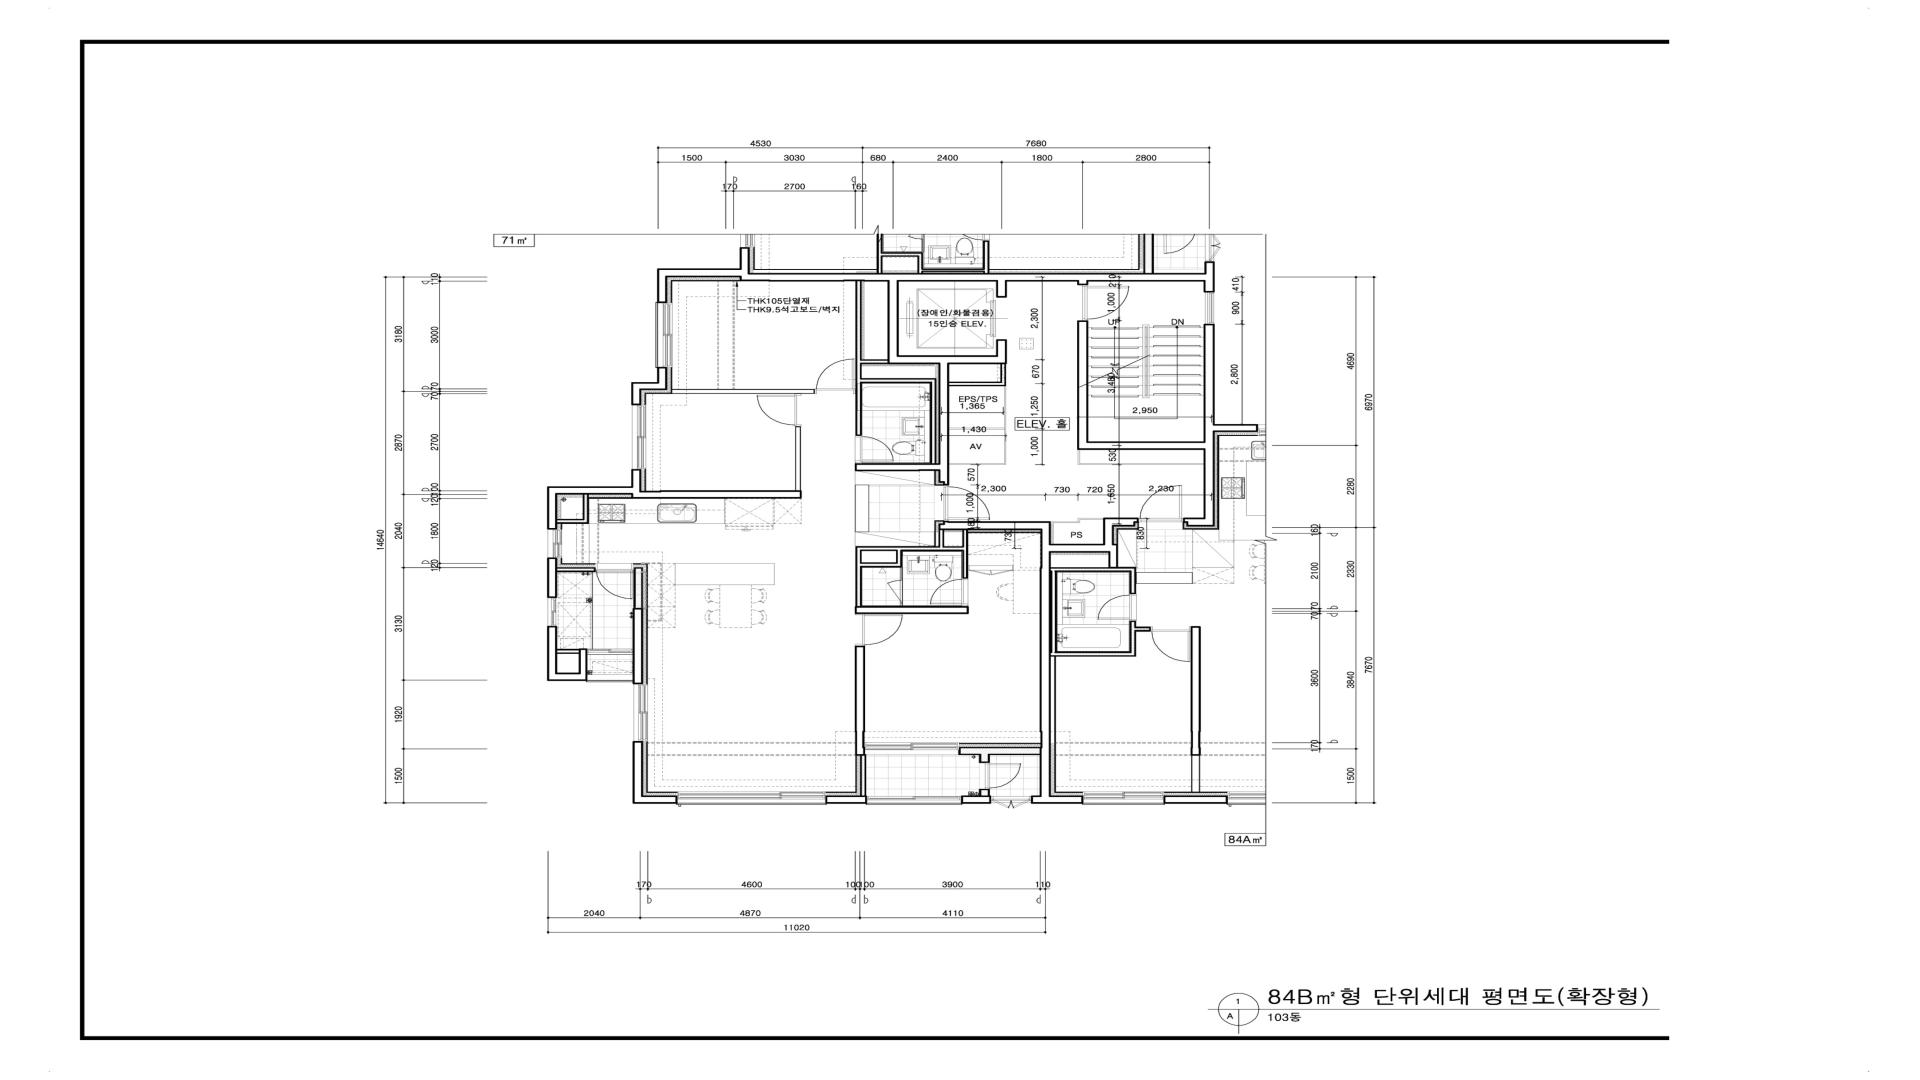background: (0, 0, 1920, 1080)
door: (944, 484, 990, 521), (1083, 285, 1130, 320), (855, 615, 903, 646), (756, 394, 802, 427), (815, 359, 856, 394), (595, 563, 633, 599), (855, 435, 894, 463), (931, 579, 968, 607), (885, 567, 903, 605)
wall: (657, 269, 1204, 285), (1039, 521, 1051, 795), (547, 487, 802, 498), (1204, 324, 1215, 518), (959, 746, 1040, 764), (1077, 320, 1088, 442), (939, 364, 949, 485), (855, 646, 865, 756), (887, 355, 1007, 364), (856, 281, 862, 435), (1077, 442, 1204, 450), (939, 521, 1040, 530), (855, 607, 969, 615), (887, 281, 899, 355), (633, 608, 644, 684), (673, 389, 815, 394), (855, 463, 939, 471), (1051, 543, 1118, 553), (633, 741, 644, 795), (856, 546, 963, 551), (930, 384, 936, 463), (547, 626, 558, 673), (547, 558, 558, 597), (633, 795, 676, 804), (862, 378, 936, 384), (633, 567, 642, 608), (856, 551, 862, 607), (827, 795, 866, 804), (795, 426, 800, 491), (1204, 261, 1215, 293), (547, 495, 556, 529), (547, 673, 587, 680), (949, 381, 1006, 386), (632, 382, 667, 390), (1102, 518, 1138, 526), (657, 277, 667, 302), (963, 530, 968, 579), (1183, 518, 1215, 526), (963, 795, 992, 803), (861, 562, 903, 567), (579, 649, 588, 673), (996, 281, 1007, 298), (996, 339, 1007, 356), (556, 567, 595, 572), (1104, 526, 1114, 545), (1031, 795, 1051, 804), (583, 495, 589, 520), (632, 469, 641, 487), (657, 368, 667, 382), (949, 427, 1005, 430), (632, 390, 641, 405), (1109, 553, 1118, 567), (862, 359, 887, 364), (556, 520, 589, 524), (556, 649, 579, 654), (1005, 386, 1006, 464), (1001, 364, 1006, 382), (895, 551, 903, 563), (939, 529, 944, 546), (949, 463, 1005, 464), (1051, 521, 1077, 524), (1077, 518, 1104, 520), (1077, 520, 1080, 524)
window: (676, 795, 827, 804), (865, 742, 959, 756), (632, 405, 646, 469), (866, 795, 963, 804), (633, 684, 647, 741), (655, 302, 667, 368), (992, 796, 1031, 810), (549, 529, 562, 558), (587, 675, 633, 682), (587, 649, 633, 655), (1205, 293, 1215, 324), (547, 597, 556, 626)
